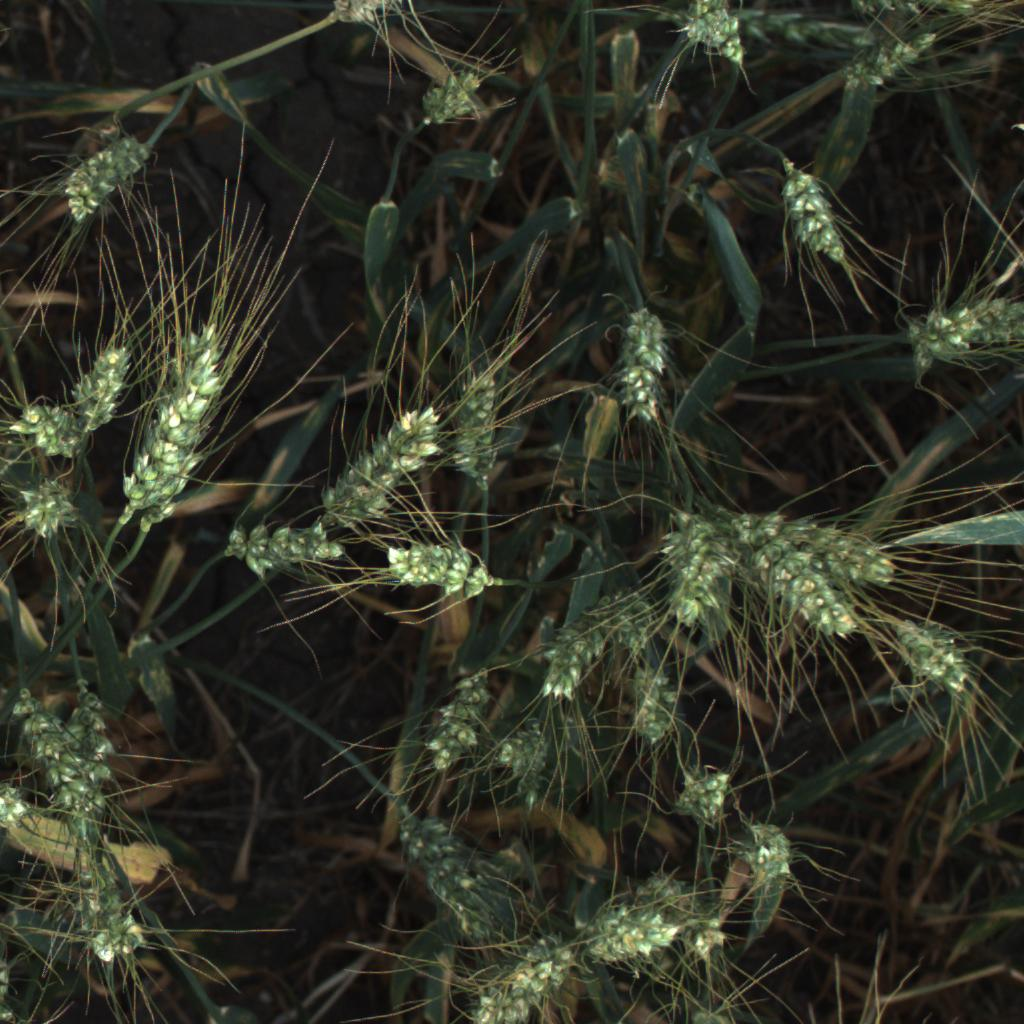0-0: (104, 316, 241, 528), (303, 394, 463, 540), (724, 504, 865, 648), (525, 569, 657, 712), (637, 492, 746, 645), (394, 799, 512, 938), (592, 282, 692, 443), (43, 114, 167, 234), (742, 505, 907, 595), (10, 679, 100, 842), (869, 586, 986, 711), (565, 882, 709, 982), (437, 343, 524, 503), (410, 660, 524, 780), (764, 144, 860, 284), (454, 916, 574, 1024), (53, 316, 136, 460), (53, 862, 153, 975), (370, 525, 500, 608), (481, 677, 565, 796), (0, 384, 96, 487), (825, 30, 960, 103), (610, 652, 706, 753), (65, 674, 123, 839), (0, 458, 96, 557), (218, 515, 352, 584), (721, 812, 813, 899), (666, 0, 763, 76), (664, 759, 746, 840), (427, 55, 505, 121), (939, 292, 1019, 348), (896, 305, 957, 378), (316, 0, 426, 36), (0, 772, 43, 840), (0, 922, 28, 1024)
